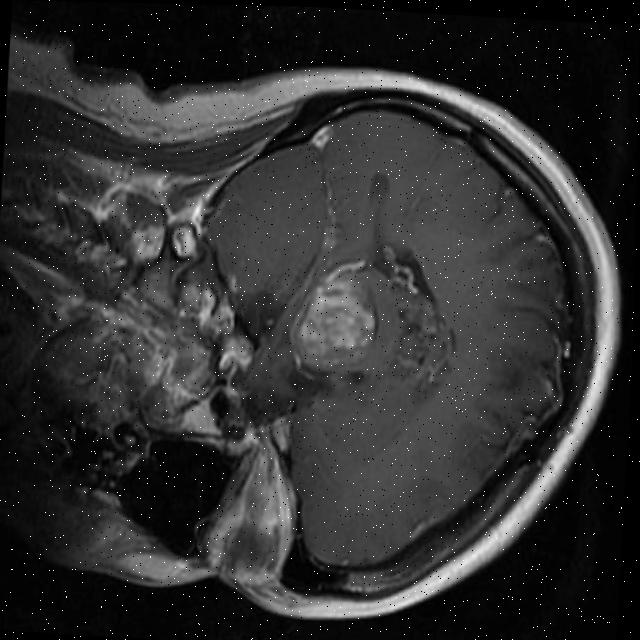Glioma: (375, 240, 463, 398), (289, 274, 380, 375)
